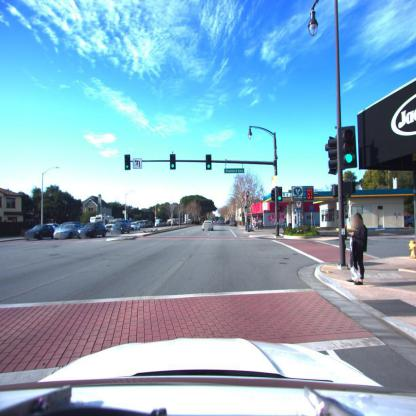car: (26, 224, 56, 242), (53, 224, 82, 240), (80, 223, 107, 239), (114, 221, 131, 233), (130, 221, 143, 231), (202, 220, 213, 231)
fire hydrant: (408, 240, 415, 258)
person: (348, 214, 368, 285)
